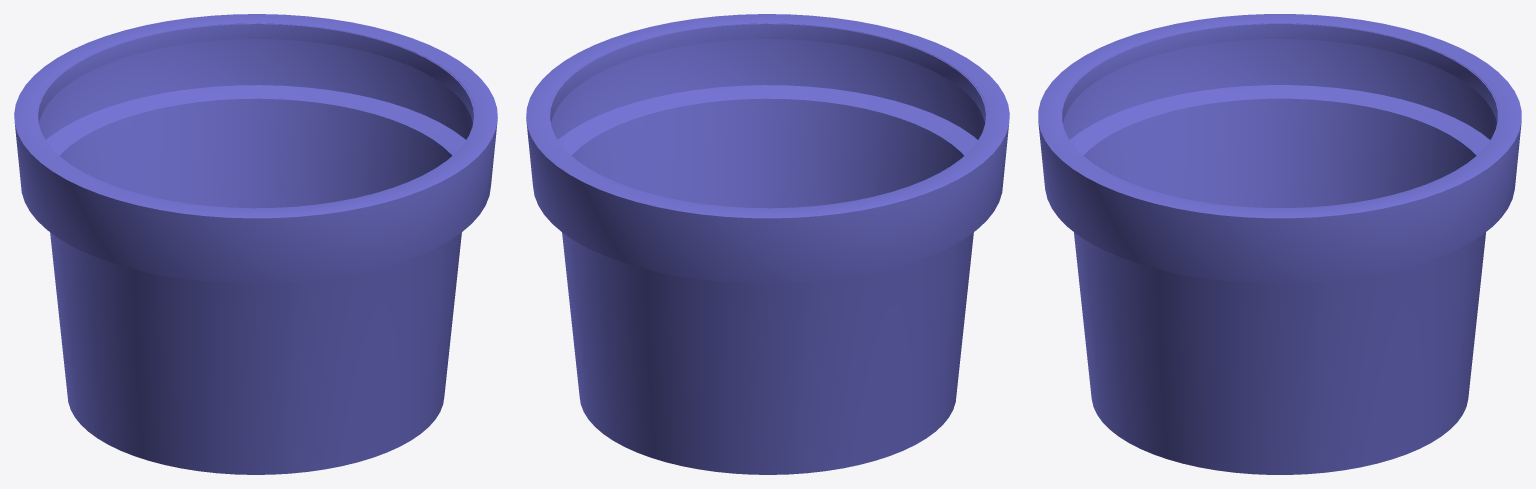
File: Zehbi.fbx
3 views of the same model, side by side, from view 1: azimuth 30°, elevation 25°; view 2: azimuth 150°, elevation 25°; view 3: azimuth 270°, elevation 25° (orthographic).
Parts seen in each view (by area): view 1: Pot; view 2: Pot; view 3: Pot.
Boxes of the visible parts, bbox=[...] form: Pot: bbox=[14, 14, 497, 474]; Pot: bbox=[526, 14, 1009, 474]; Pot: bbox=[1038, 14, 1521, 474].
Size of the model in its own units: 11.4 by 7.27 by 11.4.
